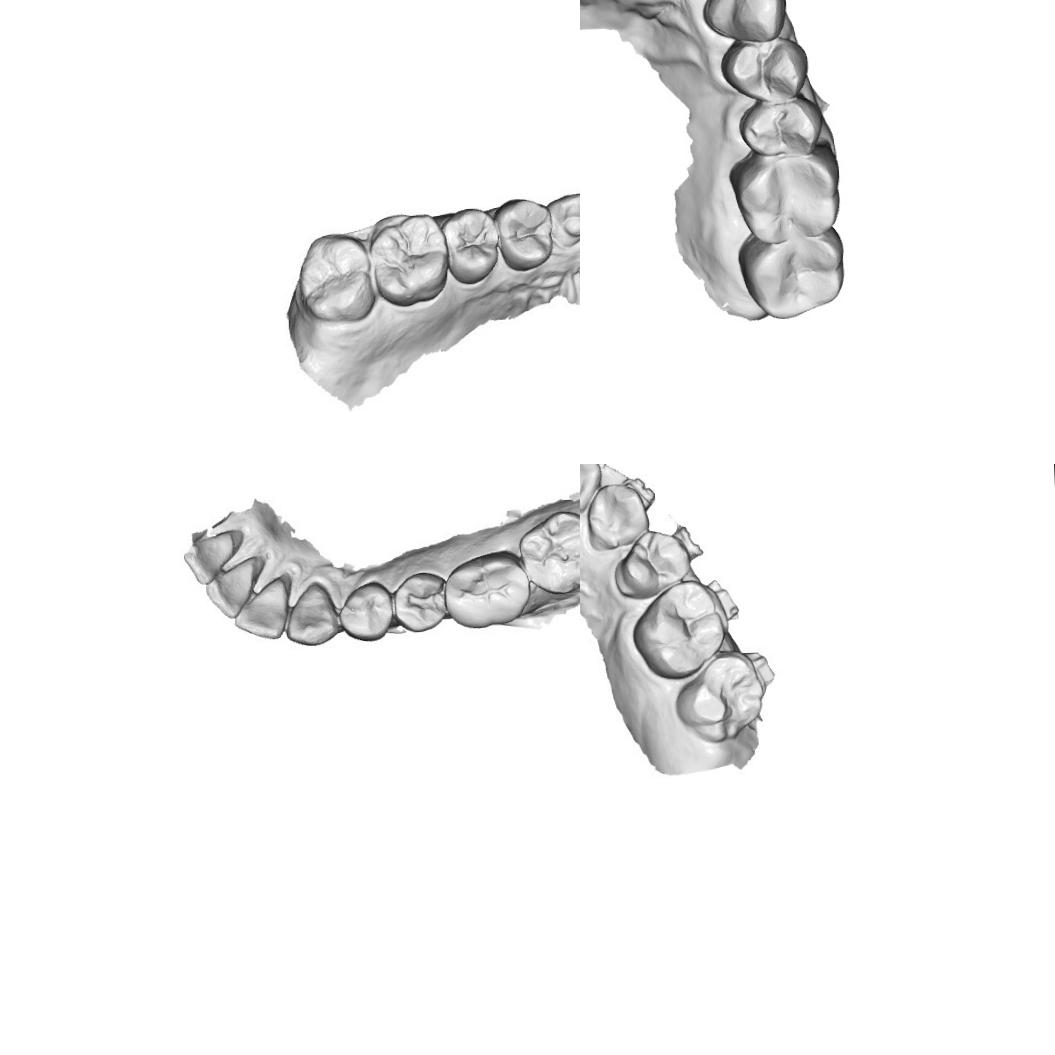canine: (584, 478, 651, 553), (282, 580, 344, 650), (697, 0, 788, 45), (550, 188, 580, 242)
incisor: (230, 577, 294, 638), (180, 531, 240, 588), (202, 561, 260, 618), (580, 464, 596, 517)
molar: (726, 147, 844, 245), (628, 580, 732, 686), (736, 226, 848, 323), (366, 208, 454, 311), (672, 655, 763, 747), (297, 230, 378, 328), (448, 550, 530, 627), (521, 512, 580, 592)
premolar: (720, 34, 810, 108), (440, 203, 509, 287), (615, 531, 693, 603), (490, 194, 561, 273), (737, 98, 823, 157), (342, 580, 396, 642), (395, 572, 448, 633)
